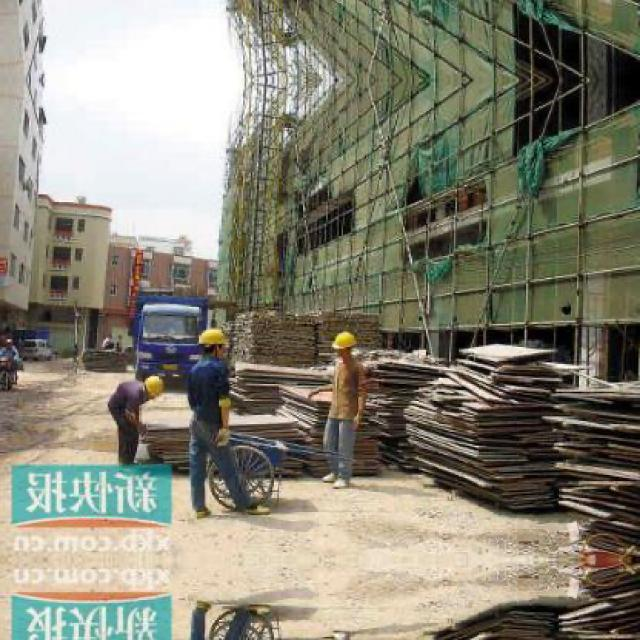helmet: (197, 324, 229, 355), (331, 331, 360, 361), (140, 373, 169, 403)
